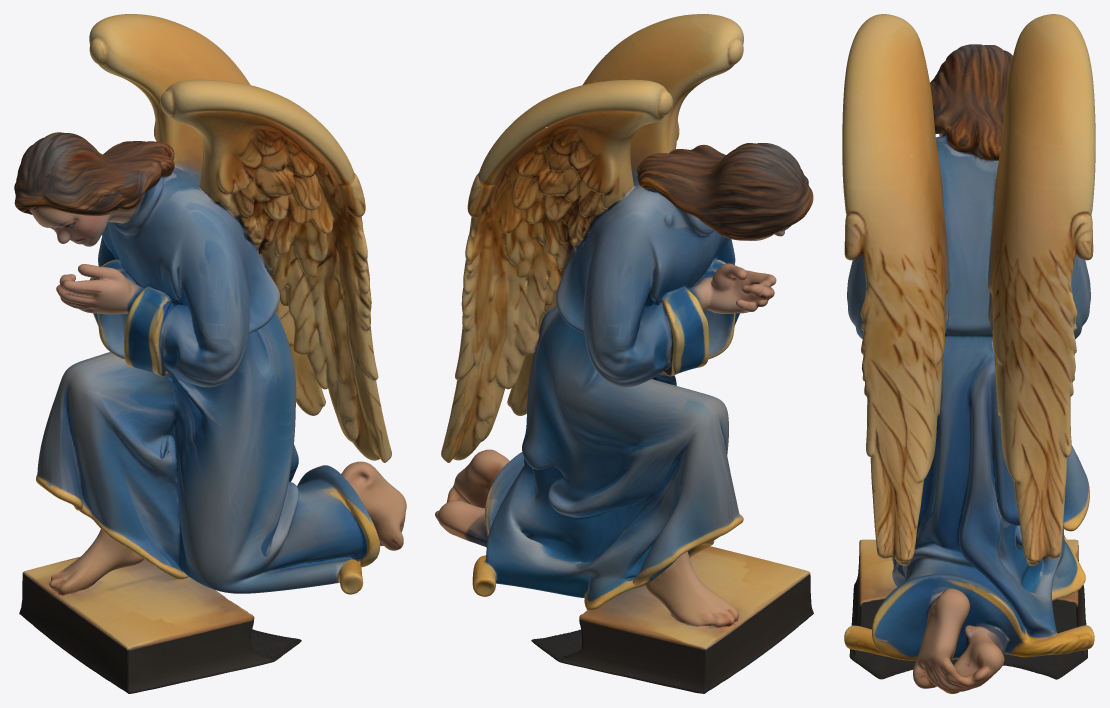
Rendered from angl.glb.
3 views of the same model, side by side, from view 1: azimuth 30°, elevation 25°; view 2: azimuth 150°, elevation 25°; view 3: azimuth 270°, elevation 25° (orthographic). The views are drawn at different scales.
Parts seen in each view (by area): view 1: tripo_node_f84c5592-7abd-4eb2-8df2-877b868b7c92; view 2: tripo_node_f84c5592-7abd-4eb2-8df2-877b868b7c92; view 3: tripo_node_f84c5592-7abd-4eb2-8df2-877b868b7c92.
Boxes of the visible parts, box(x1,y1,x2,y2) form: tripo_node_f84c5592-7abd-4eb2-8df2-877b868b7c92: box(14, 14, 406, 693); tripo_node_f84c5592-7abd-4eb2-8df2-877b868b7c92: box(435, 14, 813, 693); tripo_node_f84c5592-7abd-4eb2-8df2-877b868b7c92: box(842, 14, 1095, 693).
Bounding box in the file's own units: 0.6673 × 1 × 0.3778.
1 material, 1 textured.
